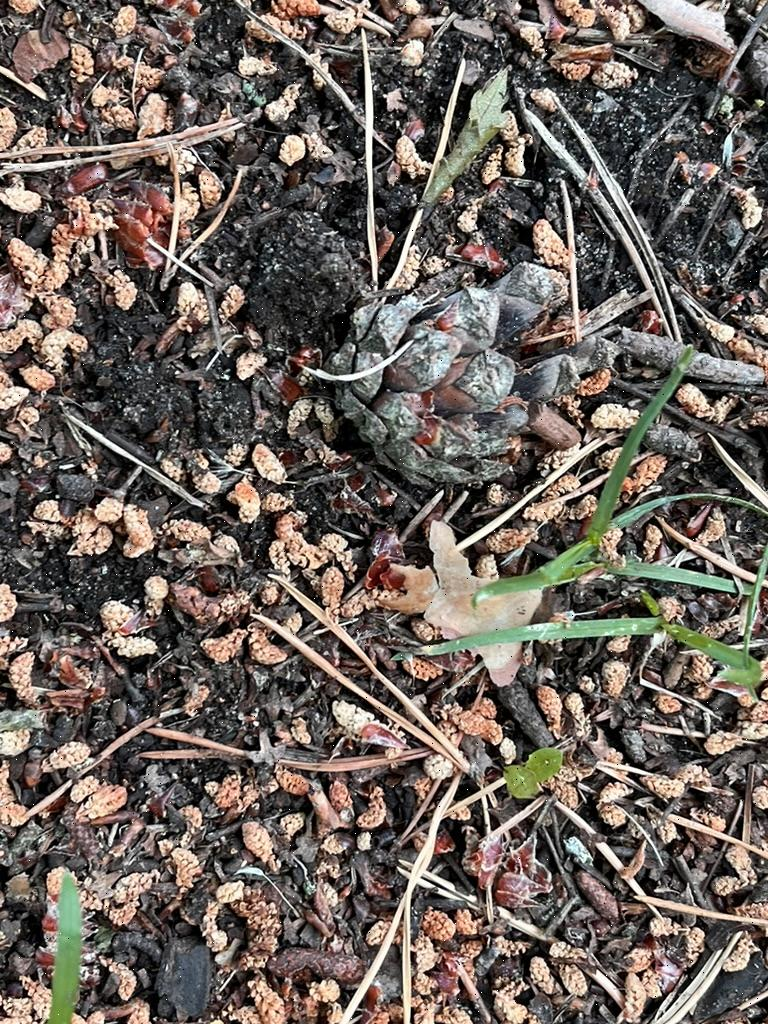pine: (311, 250, 626, 498)
